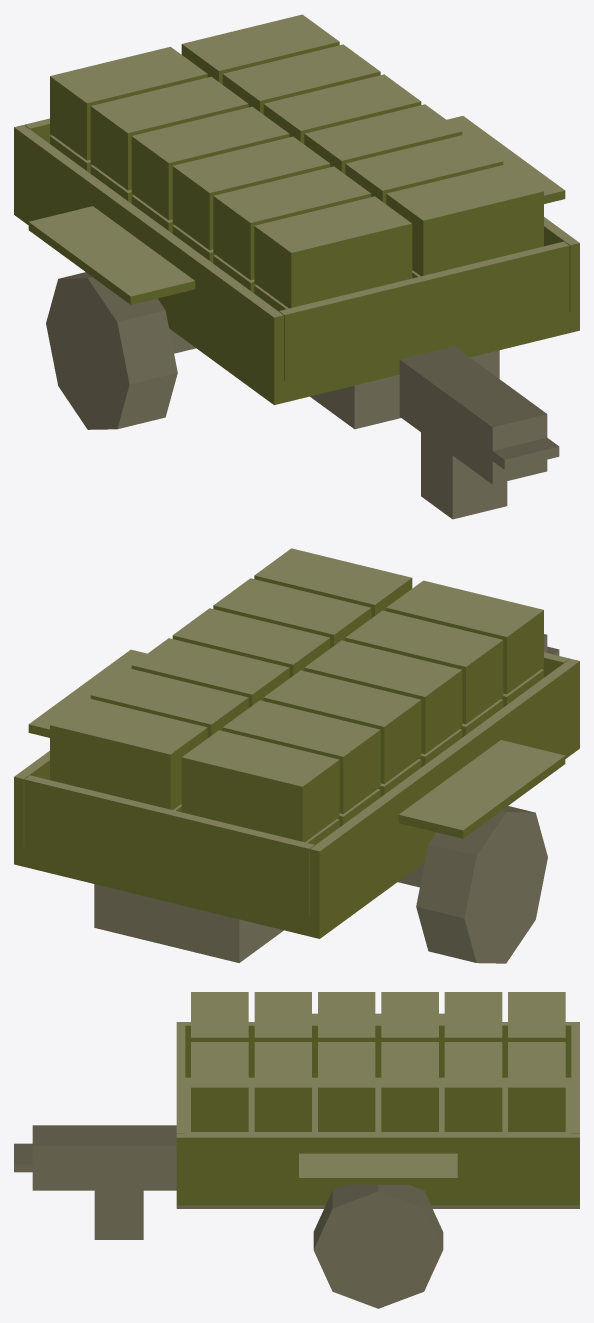
Rendered from SM_RemolqueMunicion_v0_Cargado_LOD1.fbx.
3 views of the same model, one above another, from view 1: azimuth 30°, elevation 25°; view 2: azimuth 150°, elevation 25°; view 3: azimuth 270°, elevation 25° (orthographic). The views are drawn at different scales.
Visible parts, largest first — view 1: SM_remolque_municion_v0_LOD1; view 2: SM_remolque_municion_v0_LOD1; view 3: SM_remolque_municion_v0_LOD1.
Part boxes in pixels (x1,y1,x2,y2): SM_remolque_municion_v0_LOD1: [14, 14, 579, 519]; SM_remolque_municion_v0_LOD1: [14, 548, 579, 963]; SM_remolque_municion_v0_LOD1: [14, 992, 579, 1308].
Bounding box in the file's own units: 2.7 × 1.45 × 3.93.
